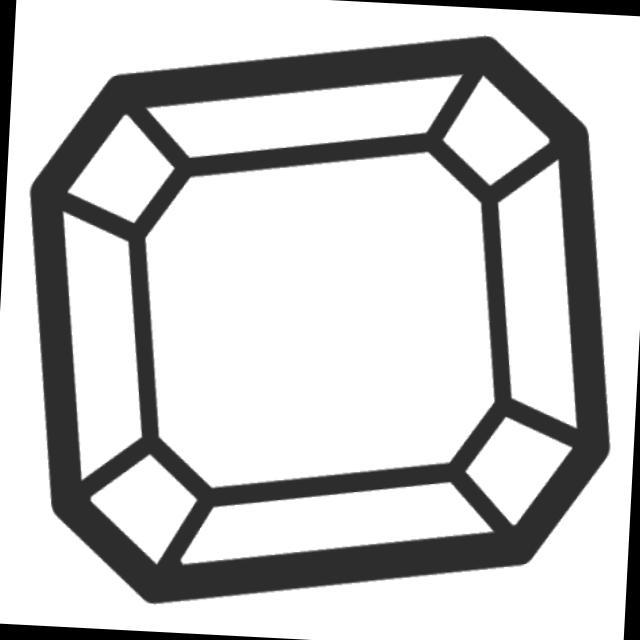emerald: (1, 3, 640, 638)
